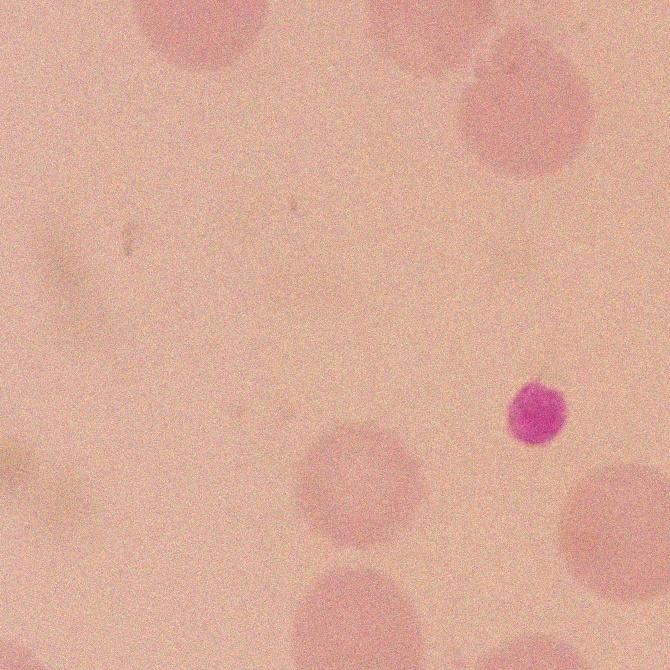Uninfected: (460, 30, 591, 181), (295, 420, 424, 547), (556, 462, 670, 604), (290, 568, 423, 670)
